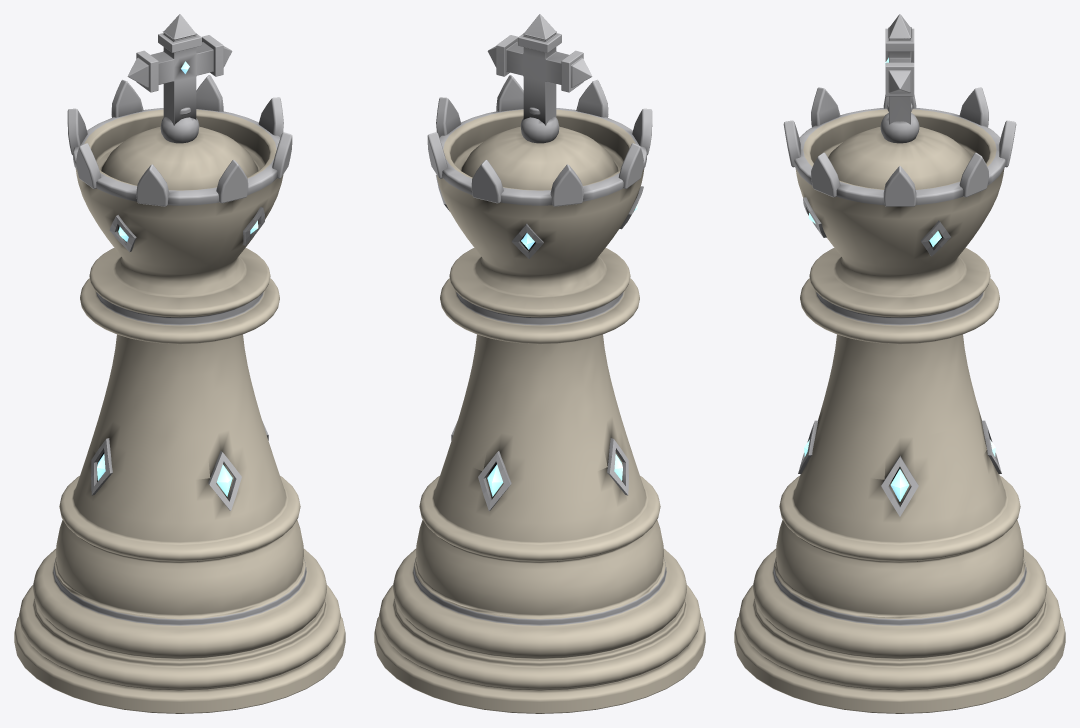
Rendered from king.glb.
3 renders of one model, left to right at view 1: azimuth 30°, elevation 25°; view 2: azimuth 150°, elevation 25°; view 3: azimuth 270°, elevation 25°, orthographic.
Visible parts, largest first — view 1: king; view 2: king; view 3: king.
Boxes of the visible parts, x1,y1,x2,y2 form: king: (14,14,345,713); king: (374,14,705,713); king: (734,14,1065,713).
Size of the model in its own units: 0.76 by 1.6 by 0.76.
